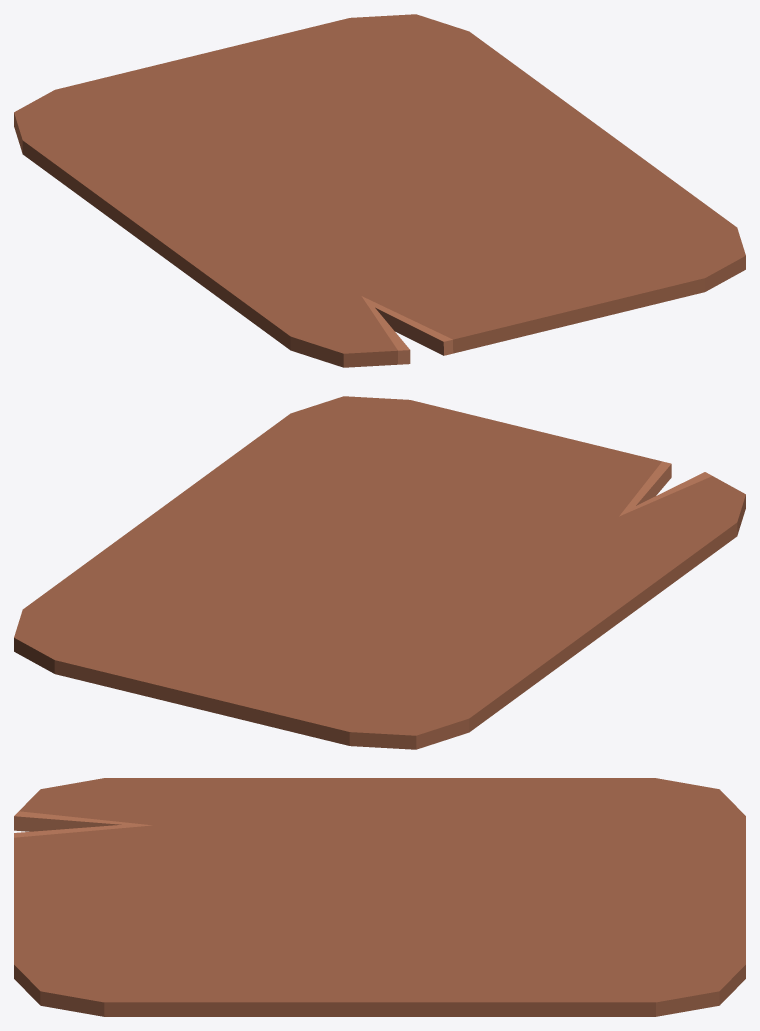
File: cuttingBoard.fbx
3 renders of one model, top to bottom at view 1: azimuth 30°, elevation 25°; view 2: azimuth 150°, elevation 25°; view 3: azimuth 270°, elevation 25°, orthographic. The views are drawn at different scales.
Visible parts, largest first — view 1: CuttingBoard; view 2: CuttingBoard; view 3: CuttingBoard.
Part boxes in pixels (x1,y1,x2,y2): CuttingBoard: (14, 14, 745, 367); CuttingBoard: (14, 396, 745, 749); CuttingBoard: (14, 778, 745, 1016).
Size of the model in its own units: 114 by 3.45 by 157.
